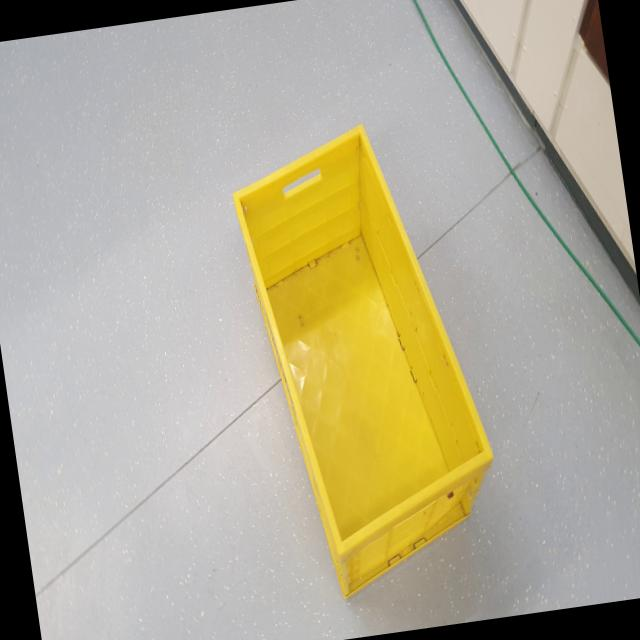box: (222, 87, 514, 618)
